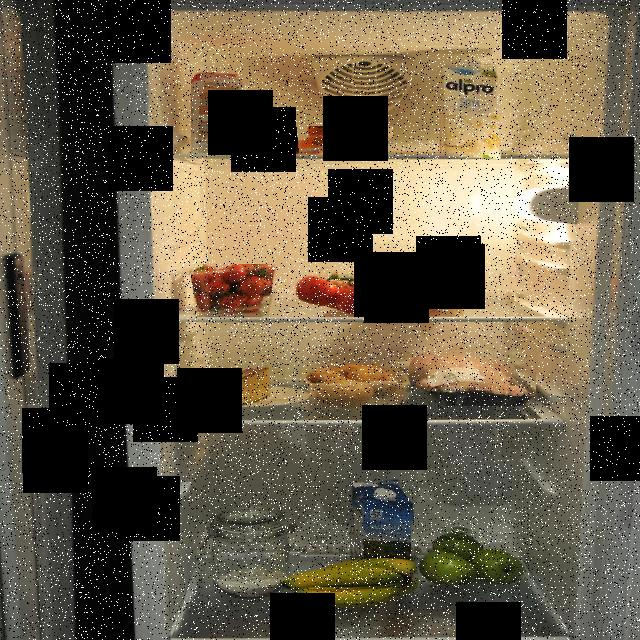apple: (411, 524, 524, 584)
banana: (280, 558, 419, 608)
carrot: (251, 126, 393, 158)
cheese: (202, 362, 274, 407)
chicken: (398, 348, 536, 406)
flour: (200, 505, 300, 597)
milk: (349, 476, 415, 572), (437, 60, 501, 159)
potato: (302, 363, 398, 407)
strawberries: (188, 264, 276, 316)
sugar: (192, 71, 256, 153)
sweet_potato: (418, 272, 466, 306)
tomato: (289, 270, 429, 314)
